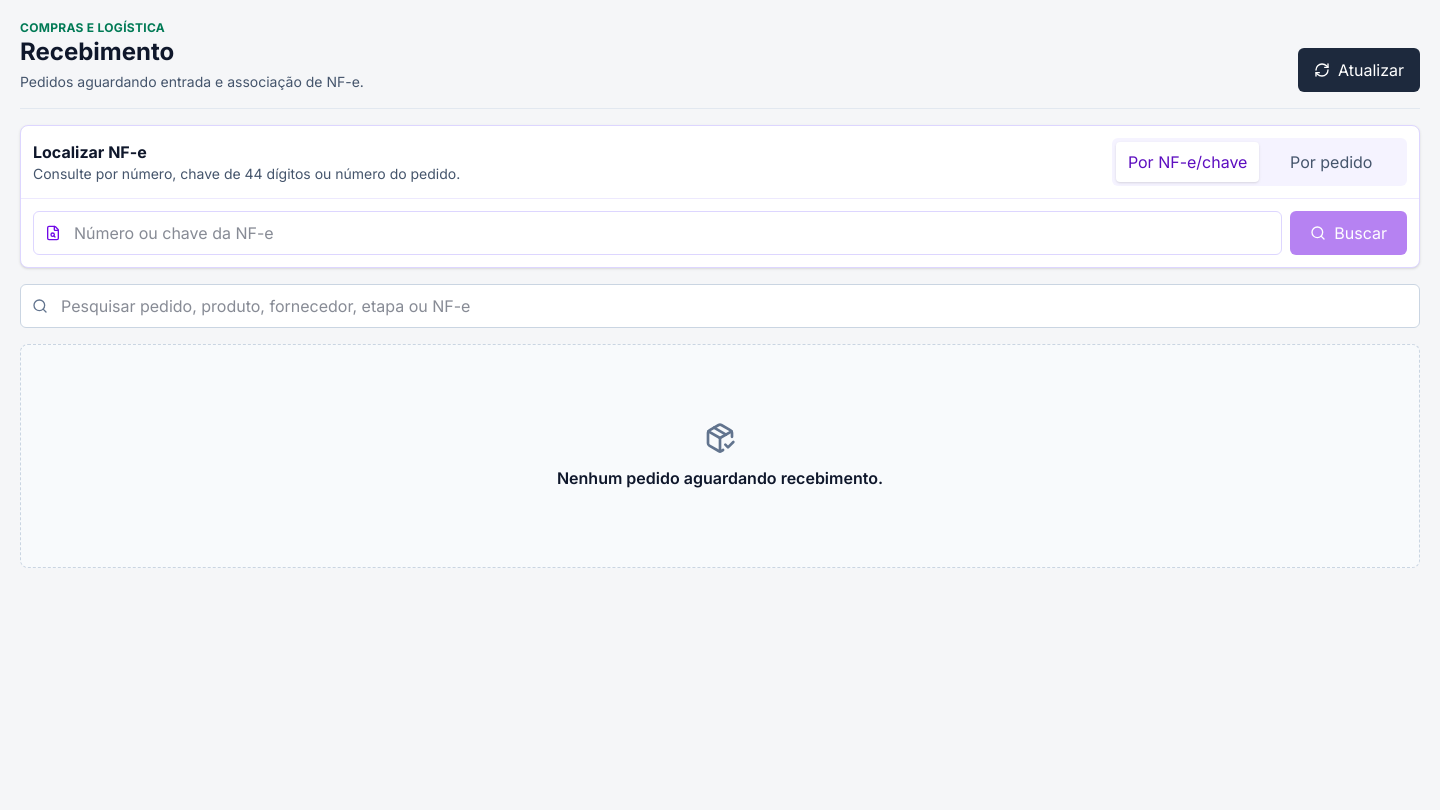
it: ReceivingScreen states › mantém notas recebidas e concluídas somente para consulta
The width and height of the screenshot is (1440, 810).
Type "10" into the field with placeholder "Número ou chave da NF-e" at [658, 233], box [33,211,1282,255]
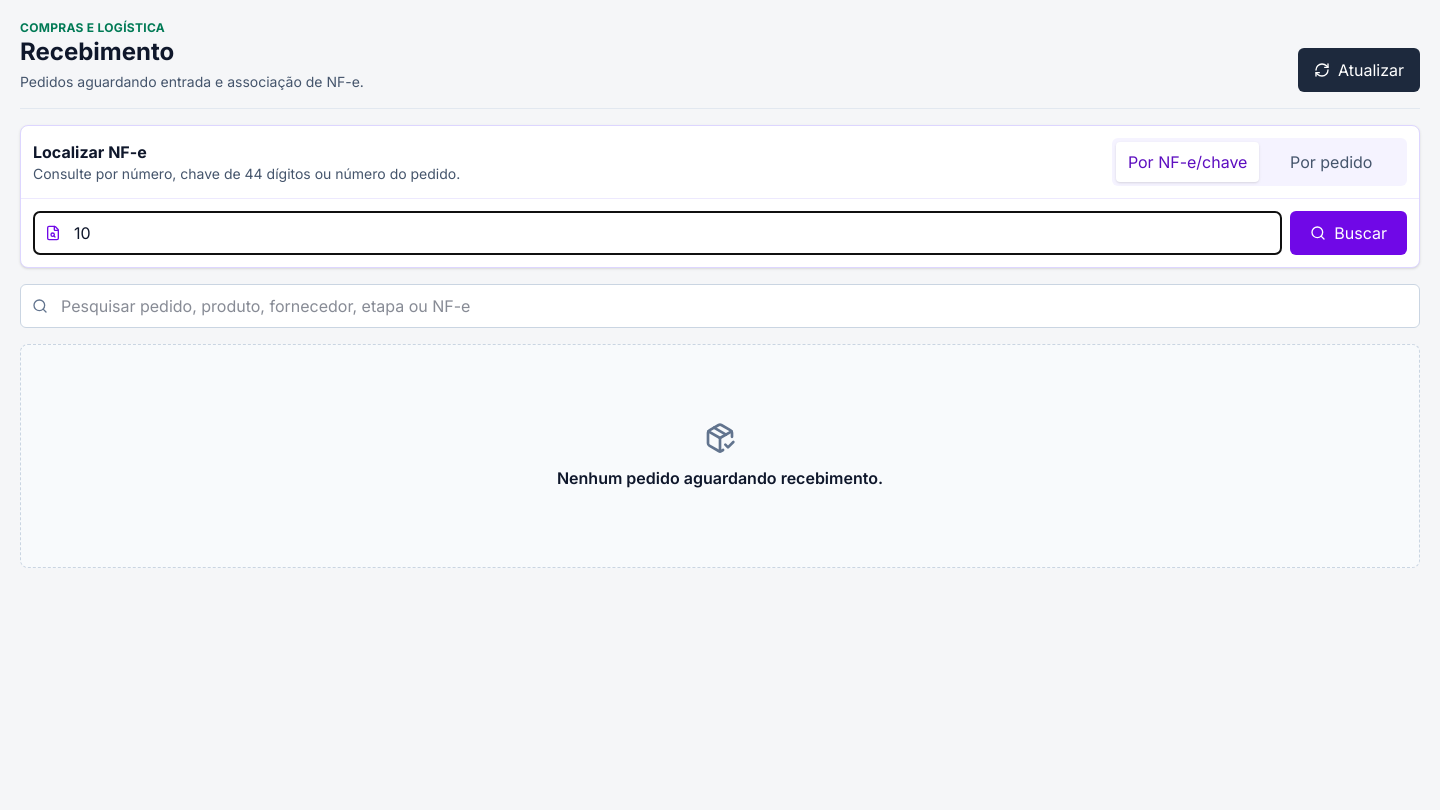
Click the button "Buscar" at [1349, 233], box [1290,211,1407,255]
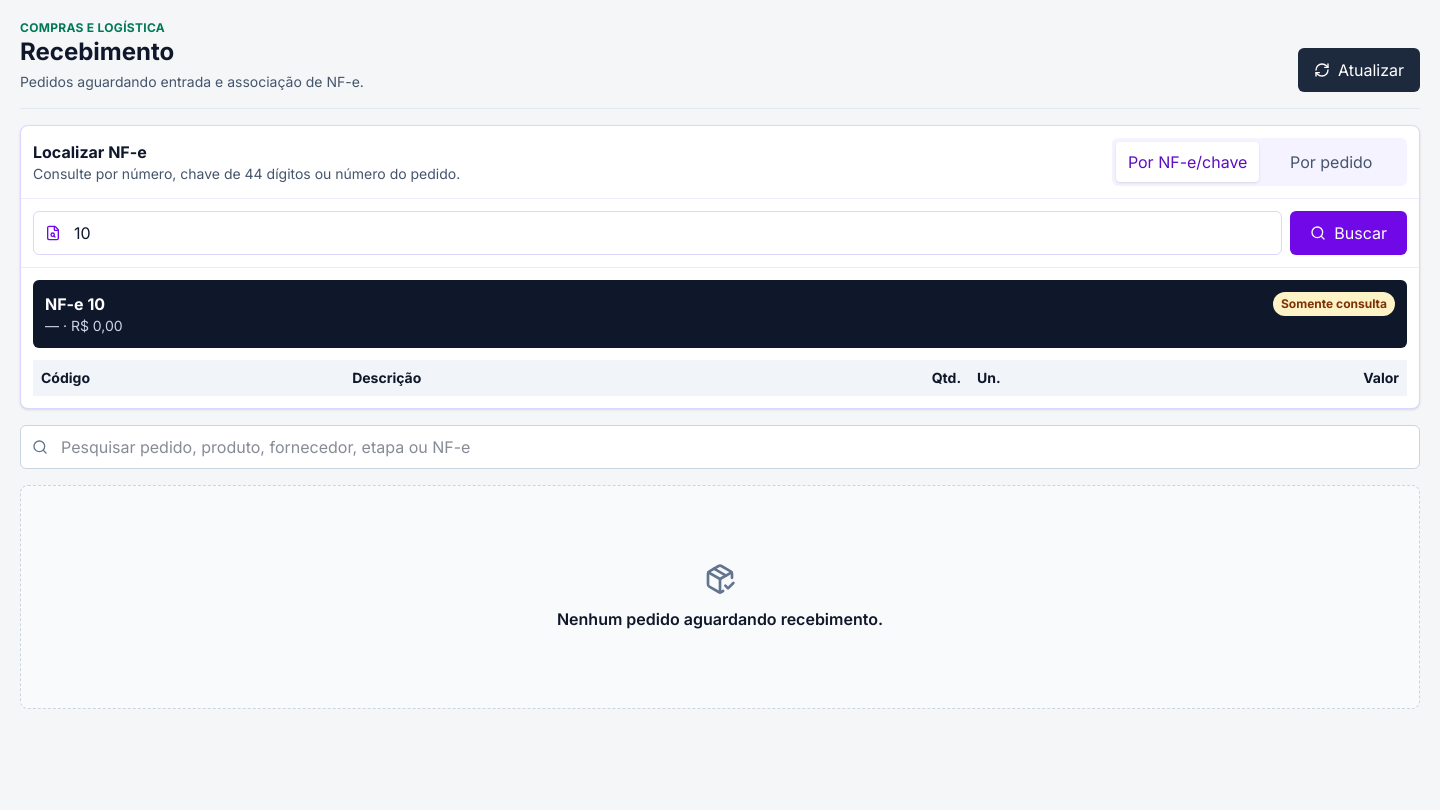
expect the text "Somente consulta" is shown: met, box [1273,292,1395,316]
